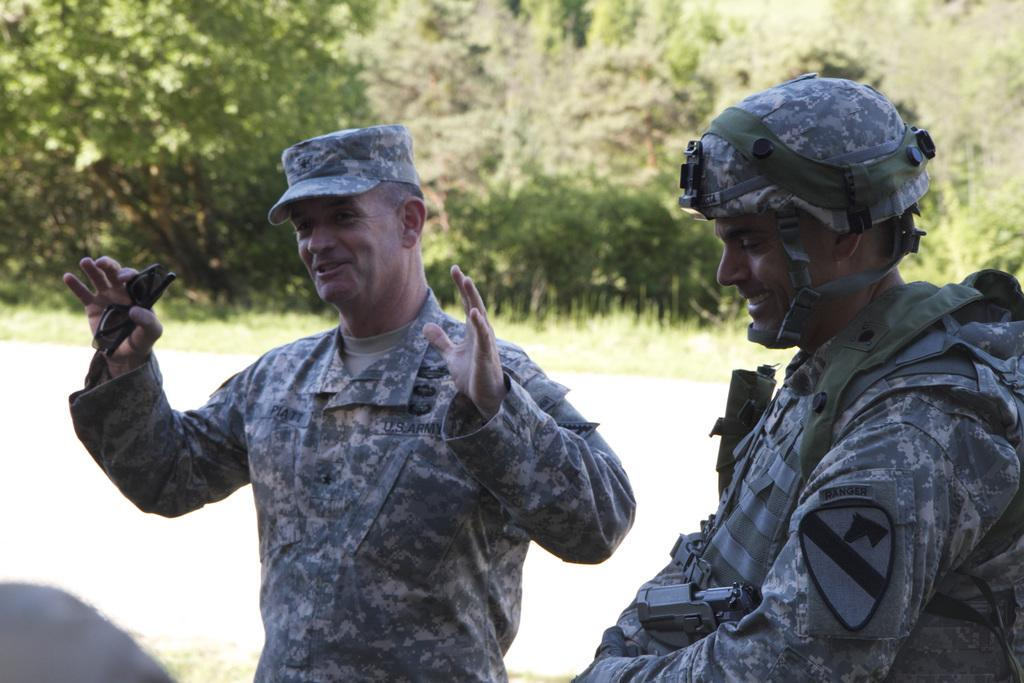Hat: (269, 129, 420, 229)
